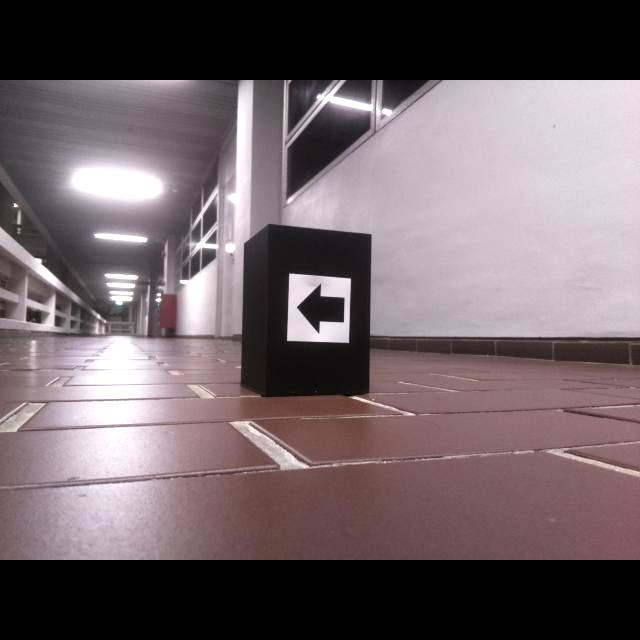LEFT: (296, 282, 345, 335)
